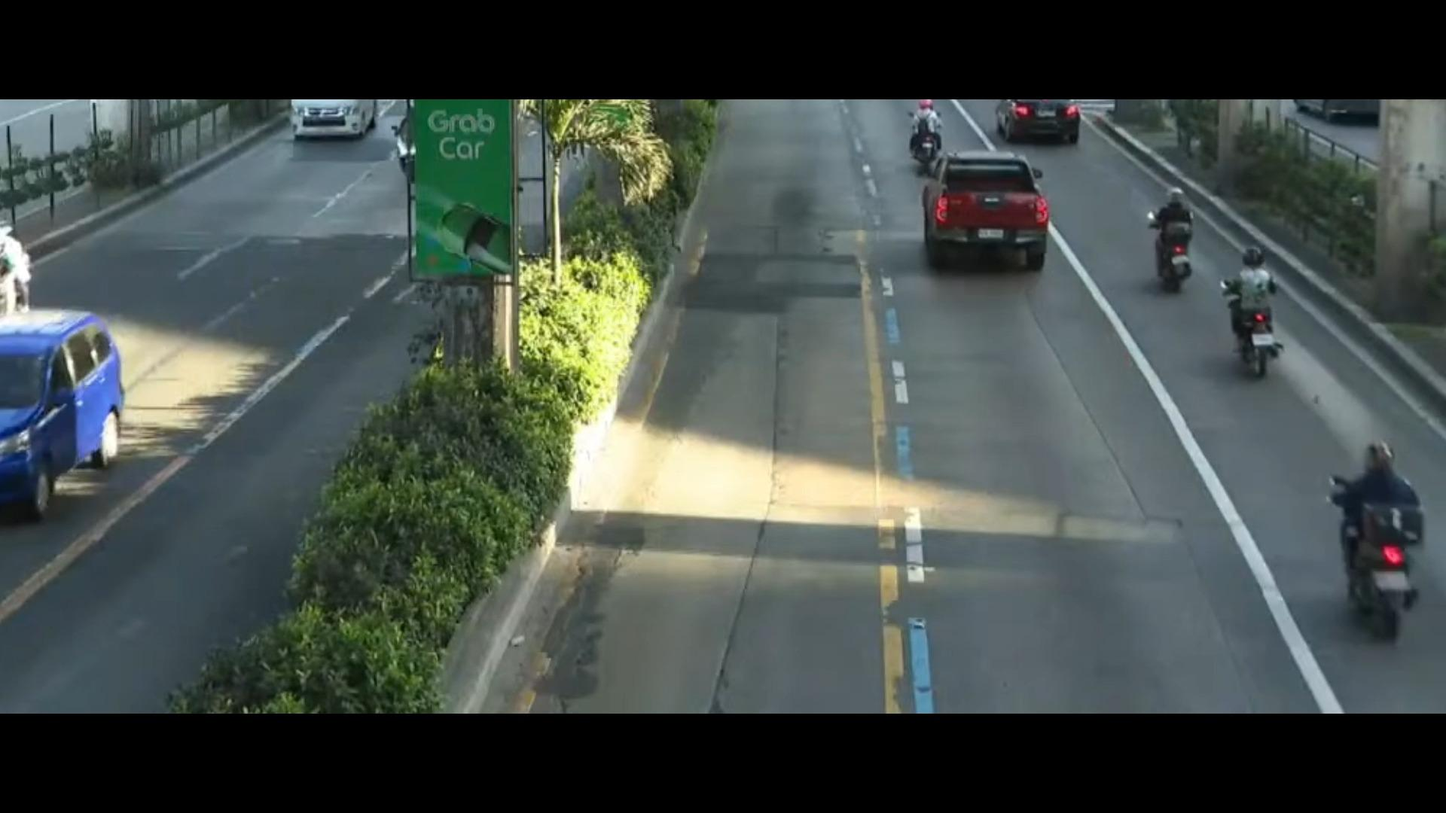Motorcycle: (1268, 420, 1438, 649), (1227, 228, 1315, 372), (1143, 164, 1186, 310), (896, 96, 959, 154)
Pickup: (905, 128, 1074, 279)
SUV: (0, 292, 147, 524)
